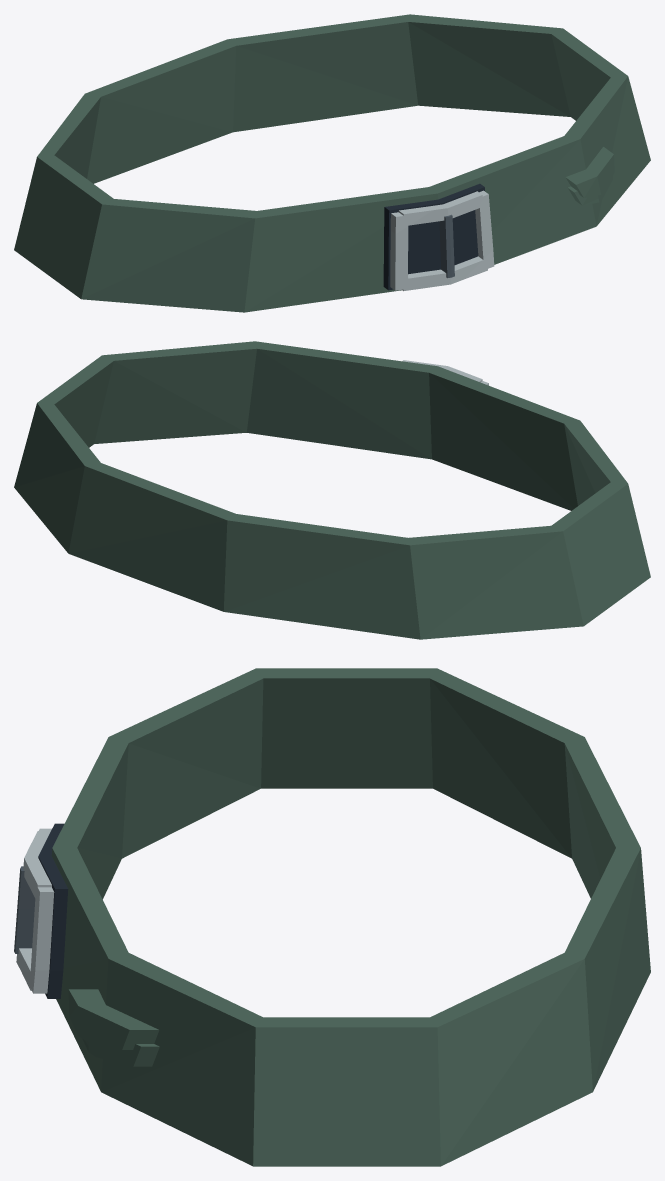
Rendered from leather_waist-female-scaledHide.glb.
3 renders of one model, top to bottom at view 1: azimuth 30°, elevation 25°; view 2: azimuth 150°, elevation 25°; view 3: azimuth 270°, elevation 25°, orthographic. The views are drawn at different scales.
Parts seen in each view (by area): view 1: leather waist band, Buckle recessed backplate, Lapped hide reinforcement leather waist band 0, Buckle side rail -0.145, Buckle cross rail 4.506, Buckle cross rail 4.294, Buckle side rail 0.145, Buckle pin; view 2: leather waist band; view 3: leather waist band, Lapped hide reinforcement leather waist band 0, Buckle recessed backplate, Buckle side rail 0.145, Buckle pin, Lapped hide reinforcement leather waist band 1, Buckle cross rail 4.506.
Boxes of the visible parts, x1=… form: leather waist band: x1=14, y1=14, x2=650, y2=312; Buckle recessed backplate: x1=383, y1=183, x2=485, y2=290; Lapped hide reinforcement leather waist band 0: x1=565, y1=147, x2=614, y2=197; Buckle side rail -0.145: x1=390, y1=212, x2=408, y2=290; Buckle cross rail 4.506: x1=398, y1=191, x2=482, y2=226; Buckle cross rail 4.294: x1=402, y1=256, x2=487, y2=291; Buckle side rail 0.145: x1=475, y1=190, x2=494, y2=269; Buckle pin: x1=439, y1=214, x2=454, y2=278; leather waist band: x1=14, y1=341, x2=650, y2=639; leather waist band: x1=51, y1=668, x2=650, y2=1166; Lapped hide reinforcement leather waist band 0: x1=68, y1=989, x2=159, y2=1049; Buckle recessed backplate: x1=38, y1=823, x2=68, y2=998; Buckle side rail 0.145: x1=29, y1=885, x2=54, y2=993; Buckle pin: x1=14, y1=866, x2=35, y2=953; Lapped hide reinforcement leather waist band 1: x1=82, y1=1039, x2=159, y2=1066; Buckle cross rail 4.506: x1=23, y1=831, x2=51, y2=897.
Bounding box in the file's own units: 1.94 × 0.2895 × 1.34.
